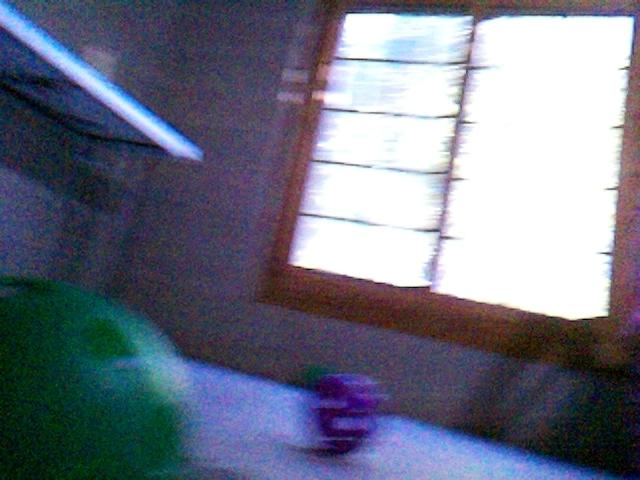Green: (0, 273, 191, 480)
Purple: (308, 371, 389, 454)
